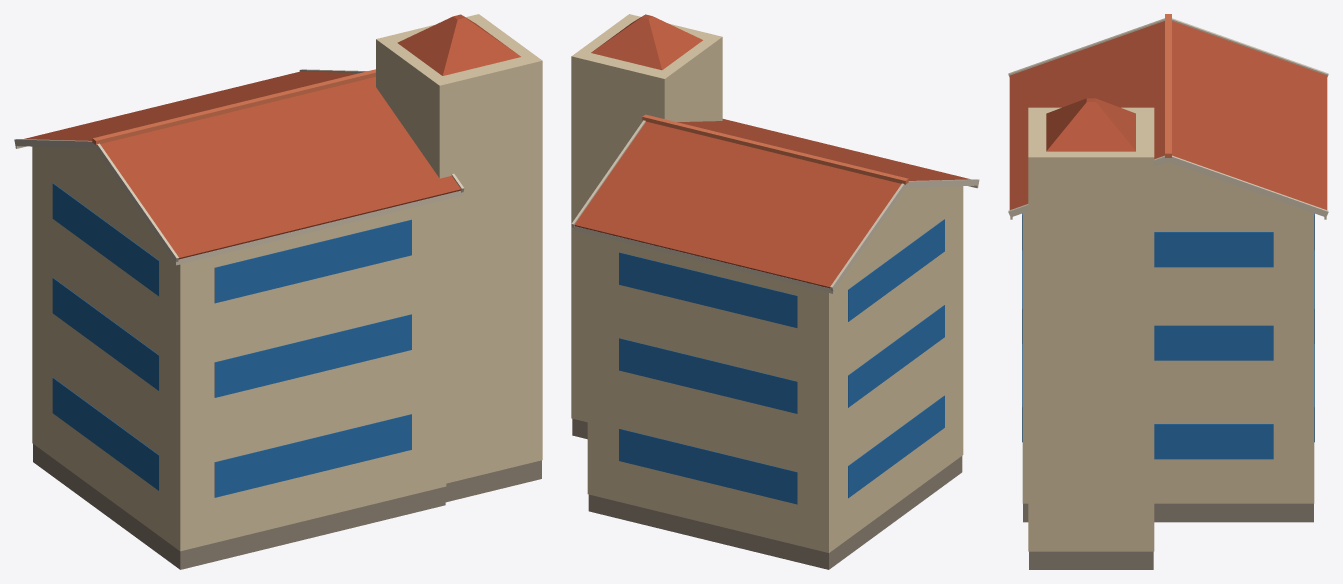
The model's file is 06_casco_palace-lod2.glb.
3 views of the same model, side by side, from view 1: azimuth 30°, elevation 25°; view 2: azimuth 150°, elevation 25°; view 3: azimuth 270°, elevation 25° (orthographic). The views are drawn at different scales.
Visible parts, largest first — view 1: 06_casco_palace_LOD2; view 2: 06_casco_palace_LOD2; view 3: 06_casco_palace_LOD2.
Part boxes in pixels (bbox=[...]): 06_casco_palace_LOD2: bbox=[14, 14, 542, 569]; 06_casco_palace_LOD2: bbox=[571, 14, 979, 569]; 06_casco_palace_LOD2: bbox=[1008, 14, 1328, 569].
Bounding box in the file's own units: 15.03 × 17.17 × 11.2.
2 materials, 2 textured.
